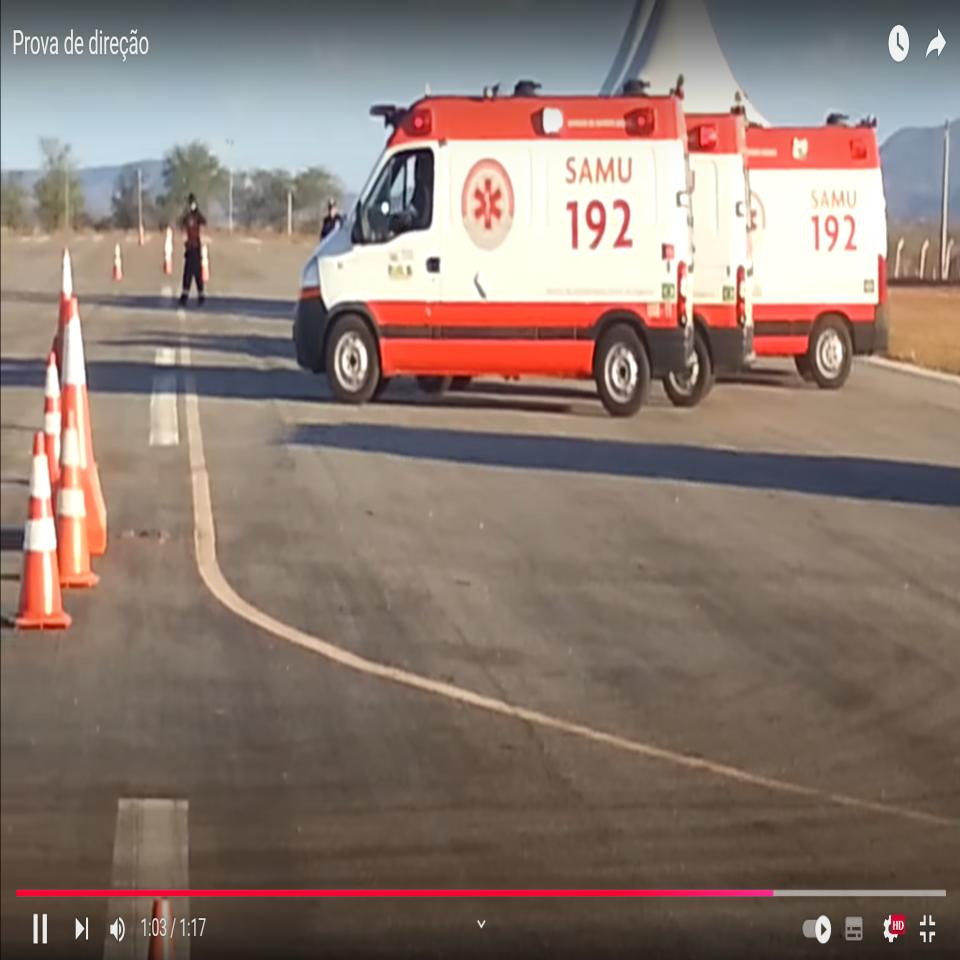bombeiro: (292, 75, 697, 424)
